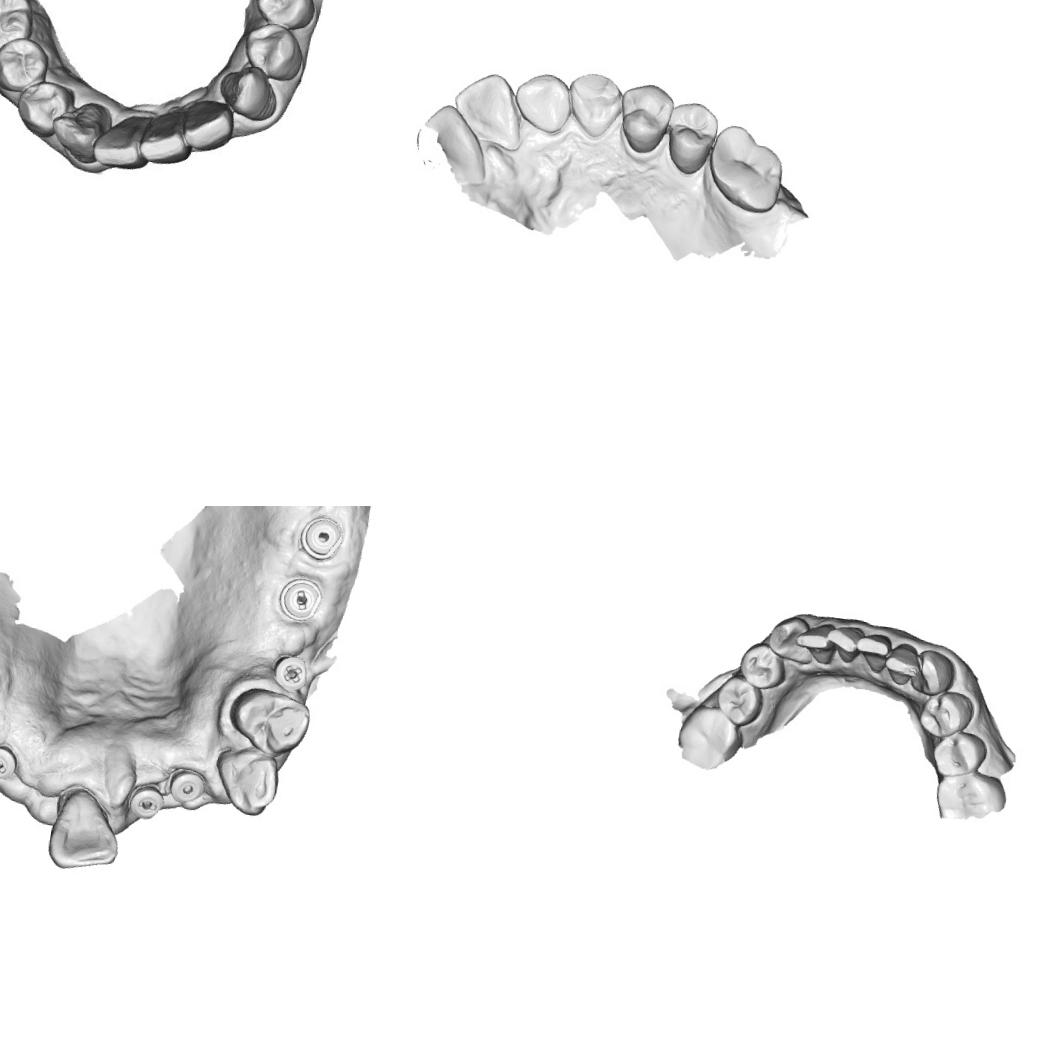canine: (209, 745, 282, 820), (562, 69, 627, 142), (216, 62, 282, 124), (52, 96, 112, 161), (764, 612, 817, 666), (908, 647, 958, 700)
implant: (298, 514, 346, 560), (166, 766, 208, 806)
implant_minus: (276, 575, 326, 624), (127, 783, 165, 822), (0, 744, 18, 781)
implant_plus: (270, 652, 311, 693)
incisor: (43, 786, 125, 878), (448, 67, 530, 156), (509, 68, 576, 136), (136, 107, 192, 168), (93, 115, 148, 171), (183, 100, 237, 154), (791, 618, 836, 666), (882, 640, 924, 688), (824, 622, 867, 666), (852, 631, 894, 676)
molar: (702, 121, 790, 217), (674, 700, 748, 773), (930, 766, 1010, 827), (0, 0, 36, 63)
premolar: (224, 684, 314, 760), (614, 78, 678, 156), (660, 98, 722, 178), (241, 20, 309, 81), (916, 686, 975, 744), (710, 672, 768, 730), (929, 726, 989, 782), (735, 639, 790, 693), (0, 35, 46, 92), (19, 84, 73, 132), (257, 0, 318, 30)
